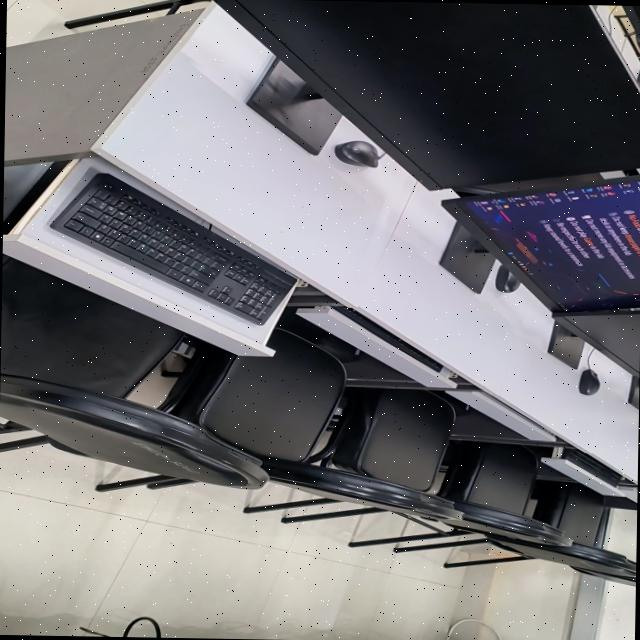Chair: (0, 255, 268, 488), (160, 329, 459, 519), (348, 525, 636, 578), (324, 388, 454, 492), (436, 441, 536, 515), (530, 480, 606, 547), (438, 490, 551, 529), (288, 508, 374, 521), (271, 437, 315, 460), (282, 331, 292, 339)
Keyboard: (49, 173, 293, 324)
Monitor: (213, 0, 640, 189), (442, 178, 640, 311), (552, 310, 640, 377), (621, 5, 640, 45)
Mouse: (334, 140, 379, 167), (494, 266, 520, 292), (578, 369, 599, 395)
